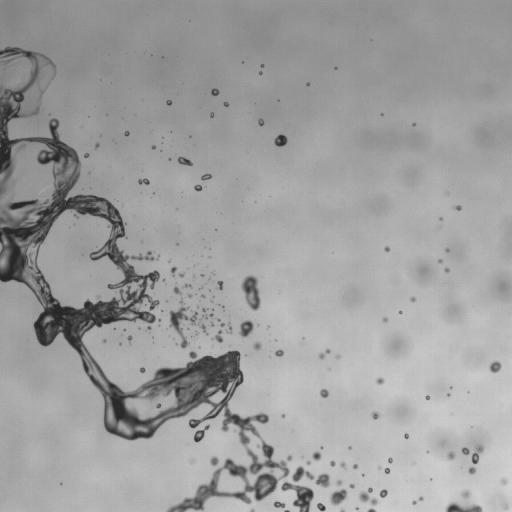droplet: (169, 299, 208, 348), (358, 487, 377, 511), (330, 489, 347, 505), (239, 320, 253, 337), (274, 134, 287, 146), (489, 360, 501, 373), (212, 329, 223, 342), (202, 307, 214, 318), (178, 156, 192, 165), (319, 389, 329, 398), (273, 501, 285, 508), (312, 451, 321, 460), (210, 456, 218, 466), (138, 178, 149, 185), (201, 173, 211, 180), (173, 287, 181, 295), (253, 342, 261, 350), (371, 411, 379, 419), (468, 466, 476, 474), (379, 489, 387, 497), (461, 490, 469, 498), (317, 503, 325, 511), (171, 266, 177, 276), (217, 280, 223, 290), (211, 88, 219, 95), (194, 184, 202, 191), (275, 349, 283, 356), (376, 377, 384, 384), (461, 447, 469, 454), (447, 451, 454, 459), (453, 205, 461, 210), (384, 467, 390, 473), (501, 478, 507, 484), (258, 118, 263, 125), (127, 335, 132, 342), (384, 246, 390, 251), (410, 296, 415, 302), (140, 367, 145, 373), (340, 462, 345, 468), (336, 480, 342, 485), (166, 100, 171, 105), (124, 131, 129, 136), (444, 268, 449, 273), (179, 272, 184, 277), (330, 461, 335, 466), (388, 457, 392, 463), (95, 143, 99, 148), (84, 153, 89, 157), (383, 317, 387, 322), (194, 331, 199, 335), (425, 394, 429, 399), (404, 433, 408, 438), (349, 484, 354, 488), (412, 500, 417, 504), (224, 102, 228, 106), (445, 248, 449, 252), (438, 259, 442, 263), (190, 459, 194, 463), (353, 464, 357, 468), (419, 496, 423, 500), (187, 294, 191, 297), (201, 294, 205, 297), (210, 323, 214, 326), (220, 323, 224, 326), (281, 414, 285, 417), (306, 461, 310, 464), (504, 504, 507, 508), (210, 113, 213, 116), (152, 146, 155, 149), (399, 310, 402, 313), (336, 355, 339, 358), (250, 509, 254, 511), (261, 64, 263, 67), (259, 72, 262, 74), (168, 158, 171, 160), (439, 217, 441, 220), (221, 305, 224, 307), (103, 339, 105, 342), (447, 393, 449, 396), (348, 447, 351, 449), (307, 83, 309, 85), (413, 123, 415, 125), (200, 286, 202, 288), (217, 318, 219, 320), (267, 326, 269, 328), (356, 508, 358, 510)
ligament: (0, 49, 329, 511), (241, 275, 260, 311), (445, 502, 482, 511), (193, 424, 209, 442), (471, 444, 484, 464), (318, 349, 330, 359), (226, 322, 232, 333), (183, 284, 191, 288), (339, 509, 345, 511), (284, 509, 289, 511)
